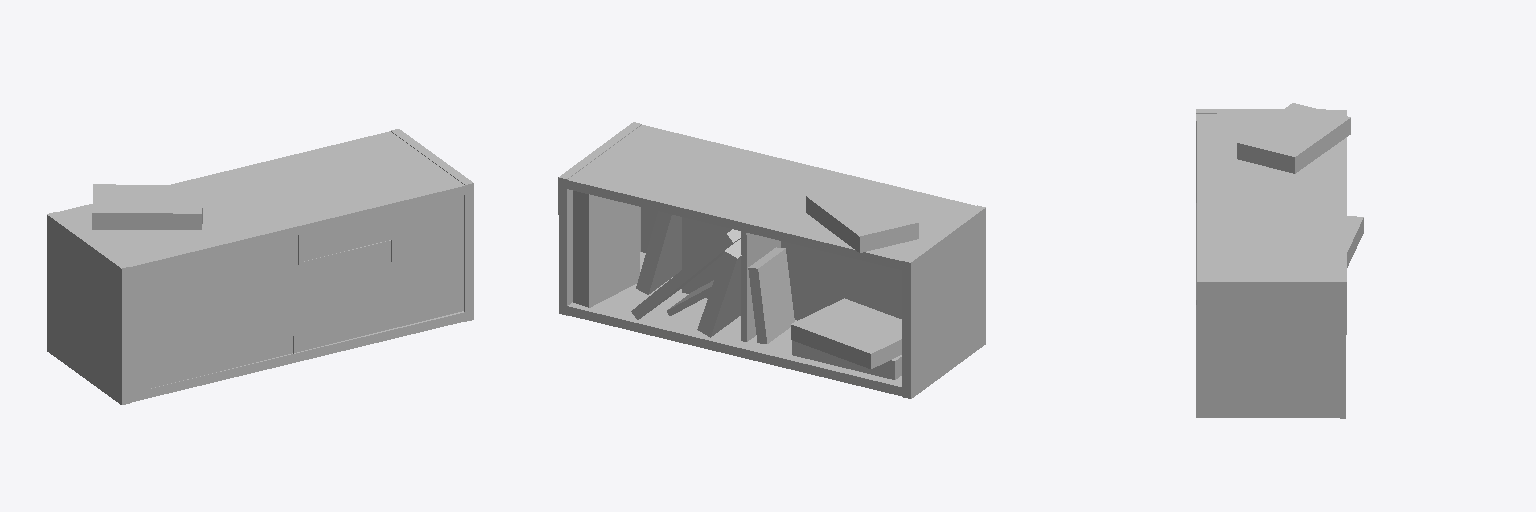
The model's file is Bookshelf02.obj.
3 renders of one model, left to right at view 1: azimuth 30°, elevation 25°; view 2: azimuth 150°, elevation 25°; view 3: azimuth 270°, elevation 25°, orthographic.
Parts seen in each view (by area): view 1: Bookshelf02_LOD0_Bookshelf02_LOD0.003; view 2: Bookshelf02_LOD0_Bookshelf02_LOD0.003; view 3: Bookshelf02_LOD0_Bookshelf02_LOD0.003.
Boxes of the visible parts, x1=… form: Bookshelf02_LOD0_Bookshelf02_LOD0.003: x1=47, y1=129, x2=473, y2=404; Bookshelf02_LOD0_Bookshelf02_LOD0.003: x1=558, y1=122, x2=985, y2=398; Bookshelf02_LOD0_Bookshelf02_LOD0.003: x1=1196, y1=103, x2=1363, y2=418.
Bounding box in the file's own units: 1.31 × 0.544 × 0.5407.